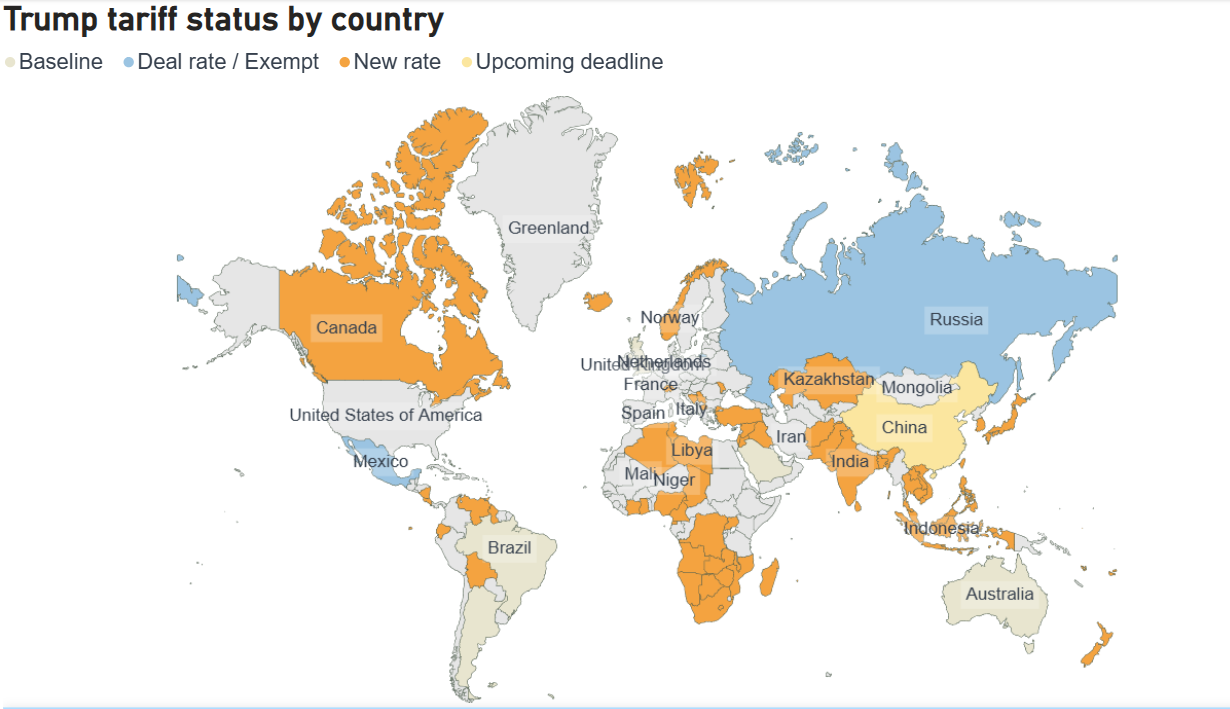

Layout of this report page (visuals, bound fields, positions):
{"tool":"powerbi","page":{"name":"Page 1","canvas":[1280,720],"ordinal":0},"visuals":[{"type":"MapBySquillion","title":"Trump tariff status by country","fields":{"category":["All actions.Geography"],"subCategory":["All actions.Custom"],"value":["All actions.Rate"]},"box":[9.7,0,1263.5,719.8],"z":0}]}

Visuals, with their boxes in screenshot pixels (x1, y1, x2, y2), scaled from the page's 1280x720 canvas onto the 1230x709 screenshot:
"Trump tariff status by country" MapBySquillion: 9:0:1223:708
